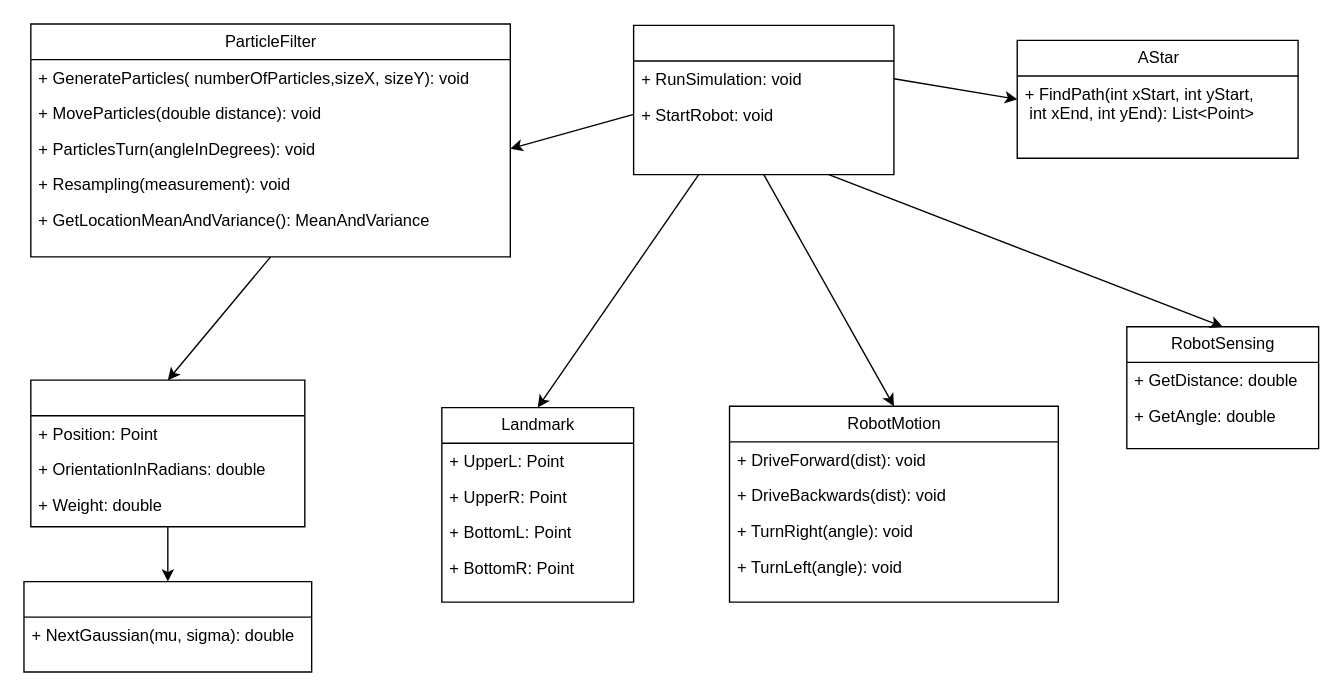
Image size: 1343x696. Some labels were removed from this diagram. Here are the shapes that lost their labels. From the top down, the box of each, then its label:
(632, 24, 894, 175): Main
(29, 379, 305, 527): Particle
(23, 580, 312, 672): GaussianNoise
